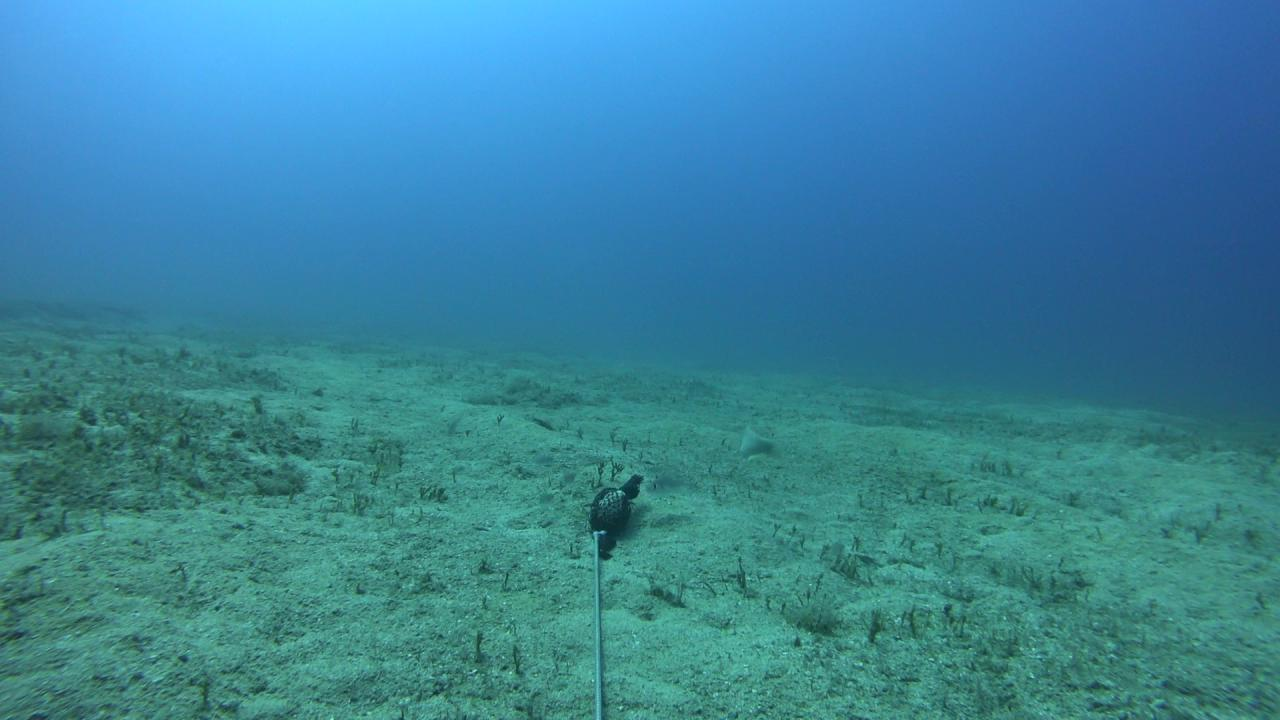pagellus: (643, 475, 699, 500)
